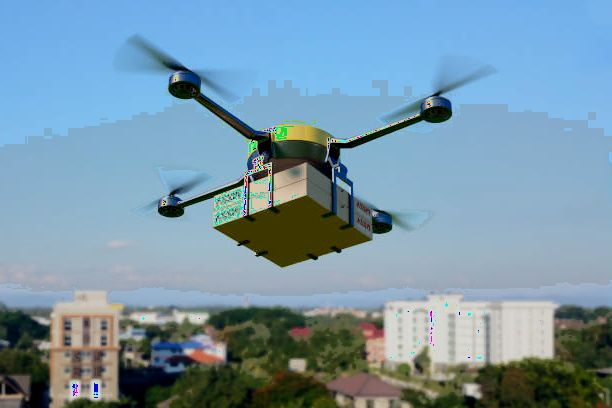Drone: (107, 27, 502, 234)
